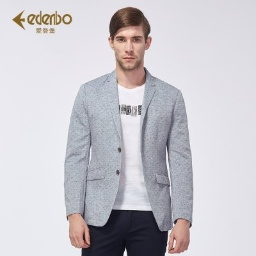face: (107, 7, 154, 71)
